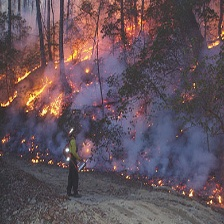fire: (23, 75, 62, 119), (169, 180, 224, 207), (63, 30, 100, 63), (26, 146, 67, 169), (13, 59, 47, 84), (203, 28, 224, 53), (1, 90, 21, 109), (2, 135, 14, 145)
smoke: (82, 62, 212, 185)
